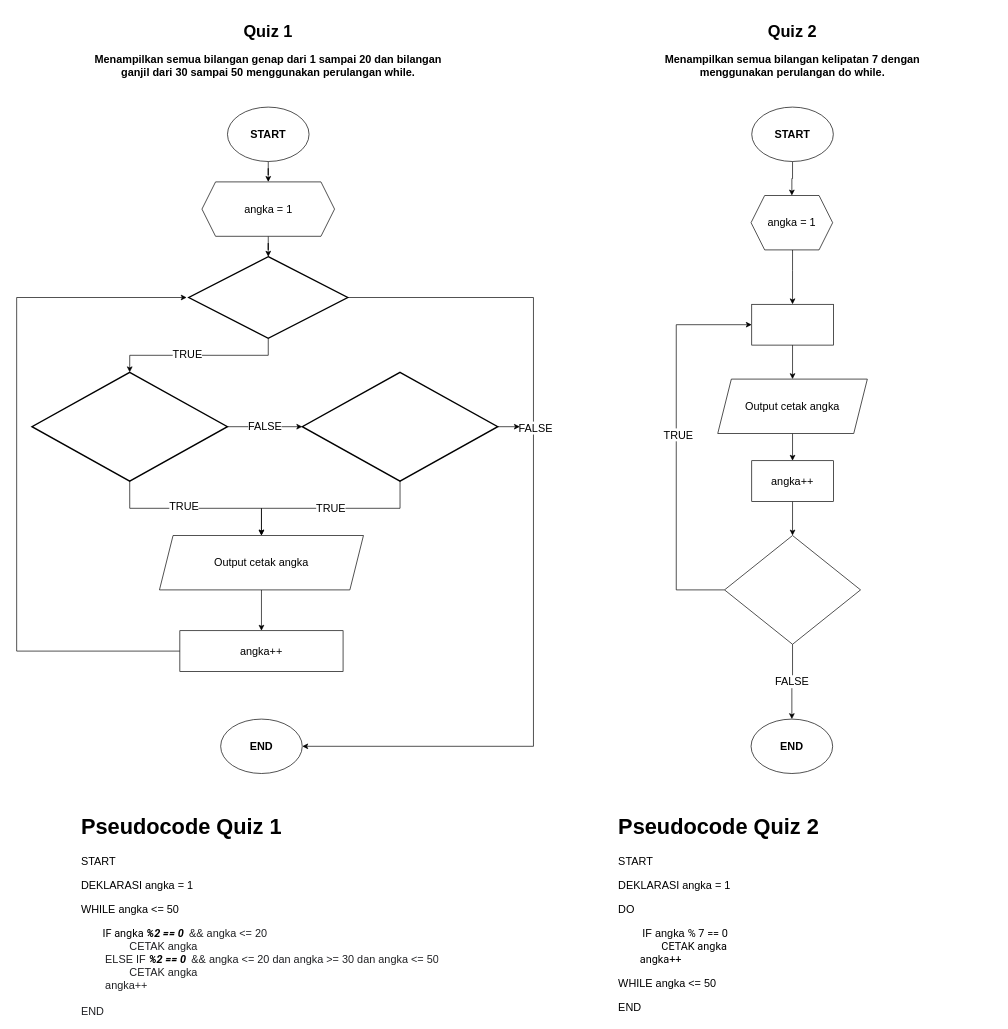
This 1008x1029 diagram has some shape labels left out. The shapes that lost their labels are listed below. From the top down, each one's box as (x1, y1, x2, y2) in pixels, then its label:
(188, 256, 348, 339): IF angka <= 50
(751, 304, 833, 345): angka % 7 == 0
(31, 371, 228, 481): If angka %2 == 0 & & angka <= 20
(301, 371, 498, 481): If angka %2 != 0 & & angka >= 30 & & angka <= 50
(724, 535, 861, 644): While angka <= 50
